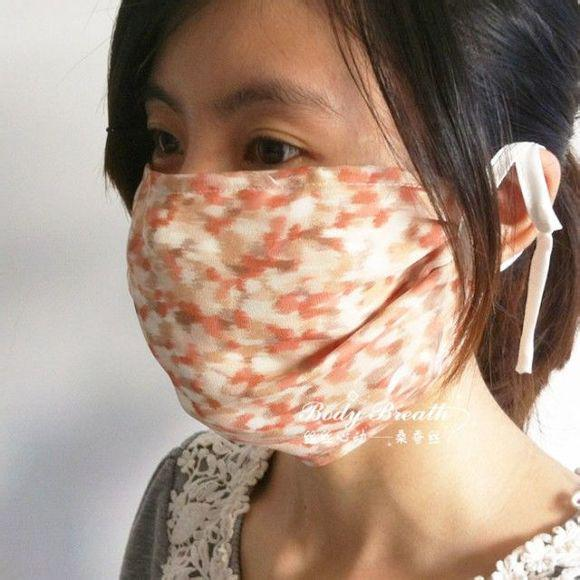OK: (119, 89, 491, 448)
